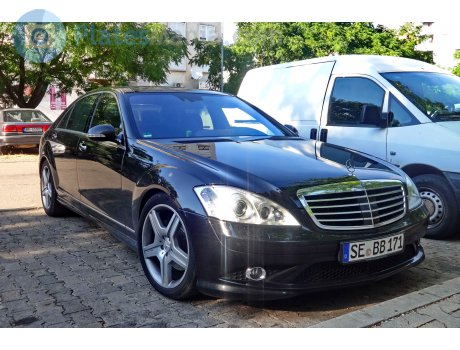License Plates: (348, 236, 410, 254)
